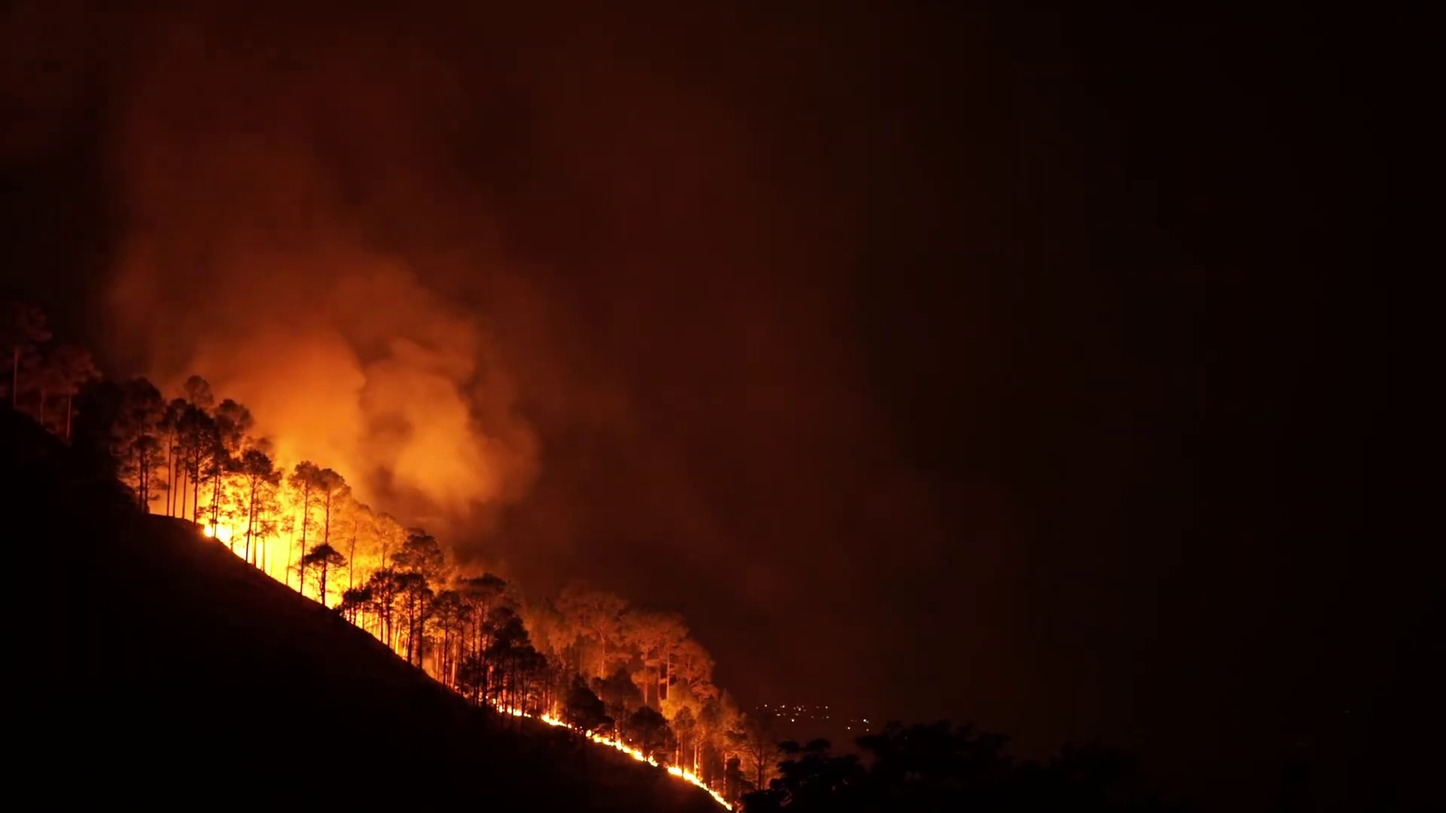forest_fire: (185, 473, 384, 609), (492, 702, 734, 808), (342, 610, 413, 645)
